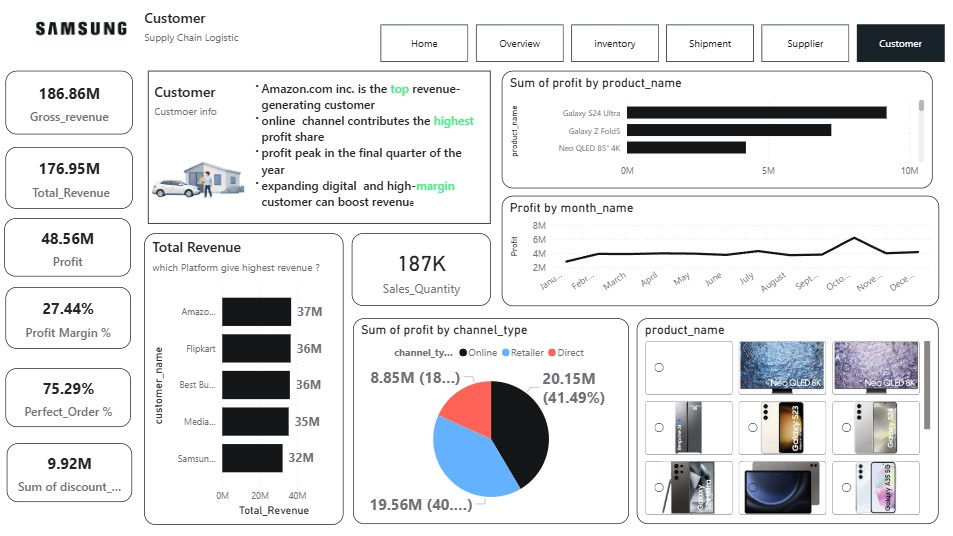

The page's visual inventory and layout, read from the dashboard file:
{"tool":"powerbi","page":{"name":"Customer","canvas":[1280,720],"ordinal":5},"visuals":[{"type":"shape","title":"Customer","box":[201.7,15.3,235.1,71],"z":0},{"type":"image","box":[0,16.2,235,50],"z":1000},{"type":"pageNavigator","box":[517.3,36.7,753.3,50.1],"z":2000},{"type":"barChart","title":"Total Revenue ","fields":{"Y":["MeasuresTable.Total_Revenue"],"Category":["dim_customer.customer_name"]},"box":[201.4,314.5,265.2,388.4],"z":3000},{"type":"card","fields":{"Values":["MeasuresTable.Profit"]},"box":[15,295,168.8,77.5],"z":4000},{"type":"card","fields":{"Values":["MeasuresTable.Profit Margin %"]},"box":[16.7,386.8,167,82.1],"z":5000},{"type":"card","fields":{"Values":["MeasuresTable.Perfect_Order %"]},"box":[17.1,495.2,167.5,78.3],"z":6000},{"type":"card","fields":{"Values":["MeasuresTable.1 Total_Revenue"]},"box":[16.7,200.3,169.7,82.1],"z":7000},{"type":"card","fields":{"Values":["Sum(fact_sales.gross_revenue)"]},"box":[16.7,98.8,169.7,84.9],"z":8000},{"type":"card","fields":{"Values":["Sum(fact_sales.discount_amount)"]},"box":[18.3,594.3,167.5,78.3],"z":9000},{"type":"pieChart","fields":{"Y":["Sum(fact_sales.profit)"],"Category":["dim_customer.channel_type"]},"box":[480.3,428.1,367.8,274.4],"z":10000},{"type":"lineChart","fields":{"Y":["MeasuresTable.Profit"],"Category":["dim_date.month_name"]},"box":[678.6,264.3,582.9,147.1],"z":11000},{"type":"barChart","fields":{"Category":["dim_product.product_name"],"Y":["Sum(fact_sales.profit)"]},"box":[678.6,98.6,574.3,157.1],"z":12000},{"type":"shape","box":[207.2,98.6,456.5,204.3],"z":13000},{"type":"image","box":[207.1,180,144.3,122.9],"z":14000},{"type":"shape","title":"Customer","box":[215,113.8,152.5,56.2],"z":15000},{"type":"card","fields":{"Values":["MeasuresTable.Total_Sales_Quantity"]},"box":[478.3,314.5,185.5,97.1],"z":16000},{"type":"advancedSlicerVisual","fields":{"Values":["dim_product.product_name"]},"box":[859,428.1,402.1,274.4],"z":17000},{"type":"textbox","box":[334.8,105.8,320.3,189.9],"z":18000}]}

Visuals, with their boxes in screenshot pixels (x1, y1, x2, y2), scaled from the page's 1280x720 canvas onto the 953x536 screenshot:
"Customer" shape: [x1=150, y1=11, x2=325, y2=64]
image: [x1=0, y1=12, x2=175, y2=49]
pageNavigator: [x1=385, y1=27, x2=946, y2=65]
"Total Revenue " barChart: [x1=150, y1=234, x2=347, y2=523]
card - MeasuresTable.Profit: [x1=11, y1=220, x2=137, y2=277]
card - MeasuresTable.Profit Margin %: [x1=12, y1=288, x2=137, y2=349]
card - MeasuresTable.Perfect_Order %: [x1=13, y1=369, x2=137, y2=427]
card - MeasuresTable.1 Total_Revenue: [x1=12, y1=149, x2=139, y2=210]
card - Sum(fact_sales.gross_revenue): [x1=12, y1=74, x2=139, y2=137]
card - Sum(fact_sales.discount_amount): [x1=14, y1=442, x2=138, y2=501]
pieChart - Sum(fact_sales.profit) x dim_customer.channel_type: [x1=358, y1=319, x2=631, y2=523]
lineChart - MeasuresTable.Profit x dim_date.month_name: [x1=505, y1=197, x2=939, y2=306]
barChart - dim_product.product_name x Sum(fact_sales.profit): [x1=505, y1=73, x2=933, y2=190]
shape: [x1=154, y1=73, x2=494, y2=225]
image: [x1=154, y1=134, x2=262, y2=225]
"Customer" shape: [x1=160, y1=85, x2=274, y2=127]
card - MeasuresTable.Total_Sales_Quantity: [x1=356, y1=234, x2=494, y2=306]
advancedSlicerVisual - dim_product.product_name: [x1=640, y1=319, x2=939, y2=523]
textbox: [x1=249, y1=79, x2=488, y2=220]
